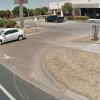Car: (1, 23, 30, 48)
